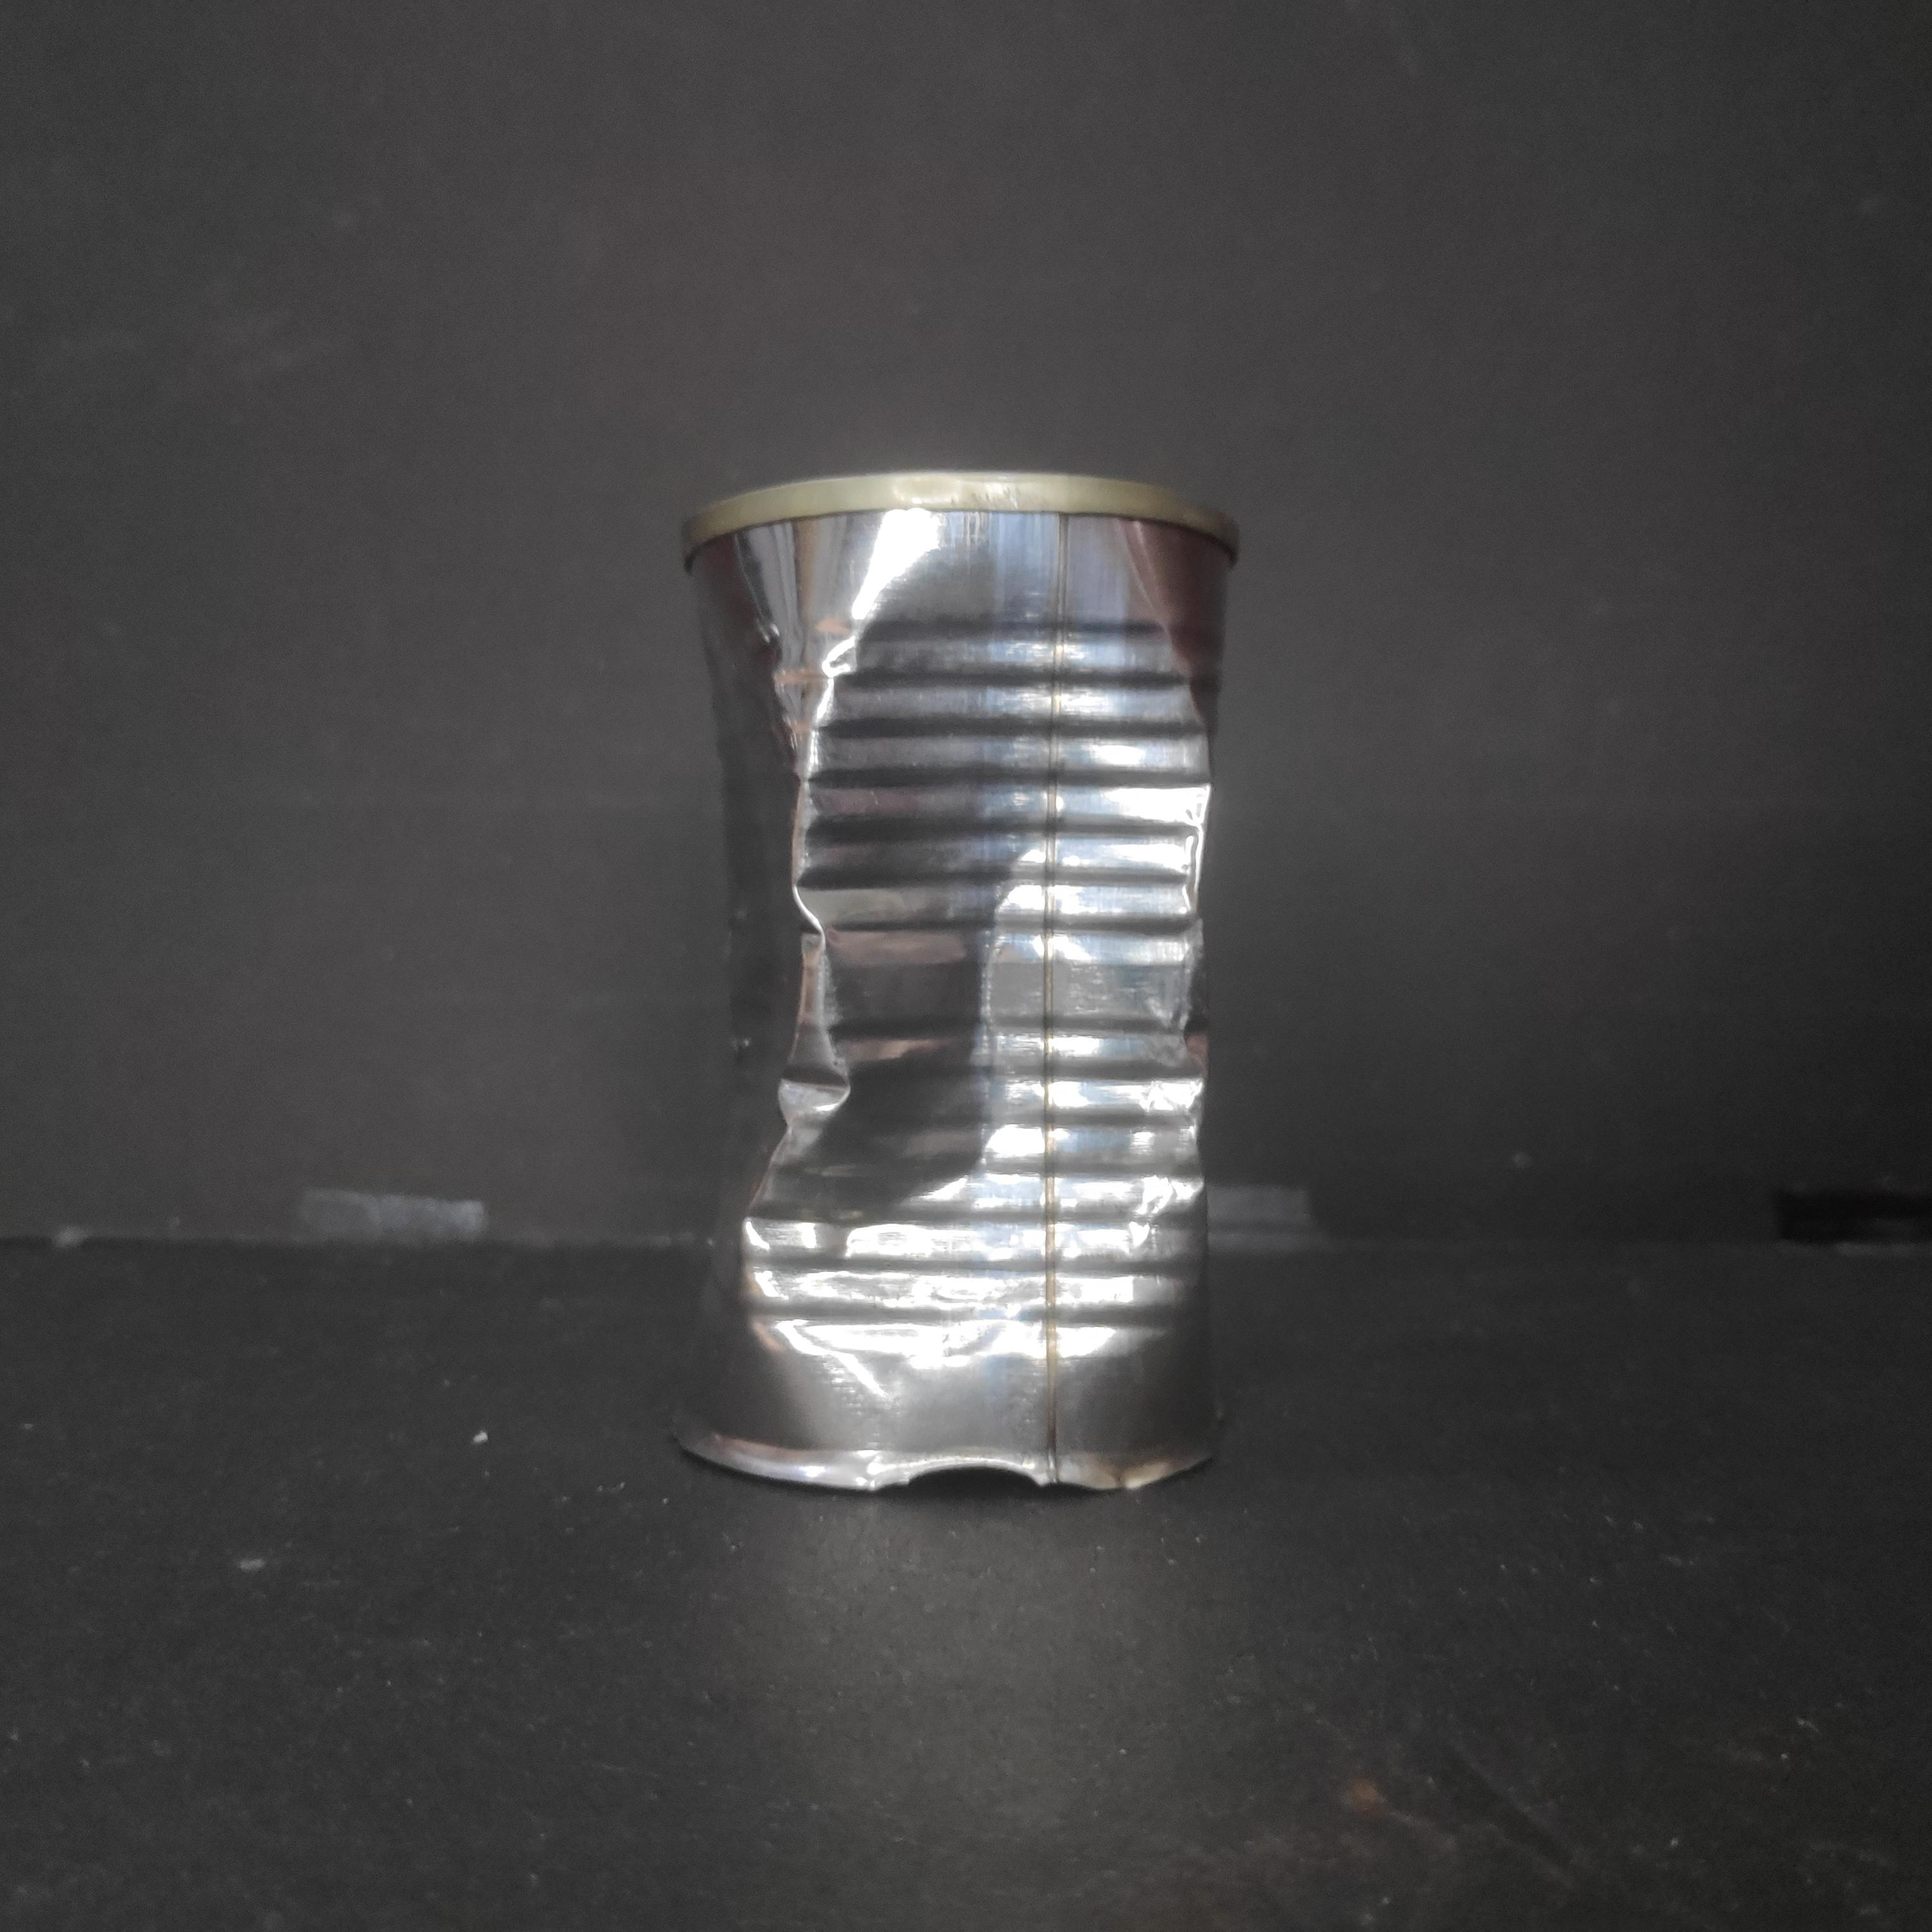Major Defect: (656, 454, 1250, 1515)
